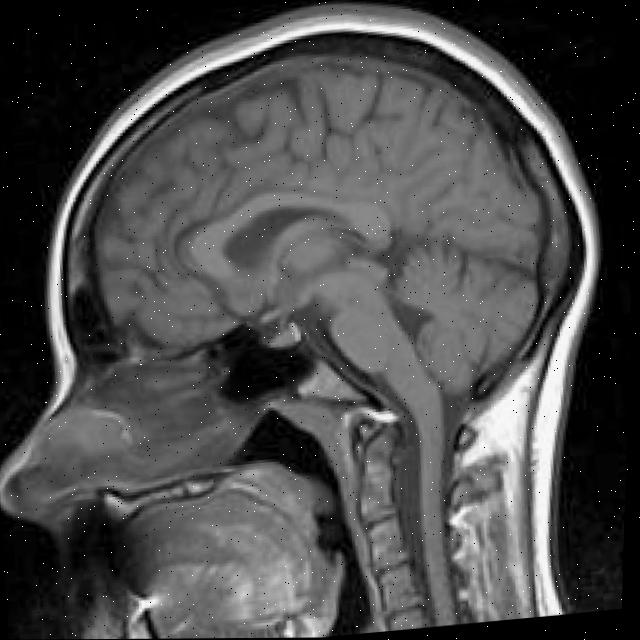NoTumor: (19, 0, 618, 431)
